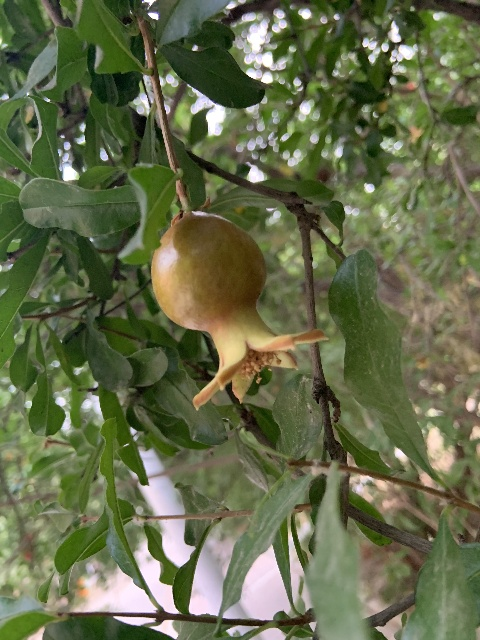early-fruit: (151, 211, 327, 410)
